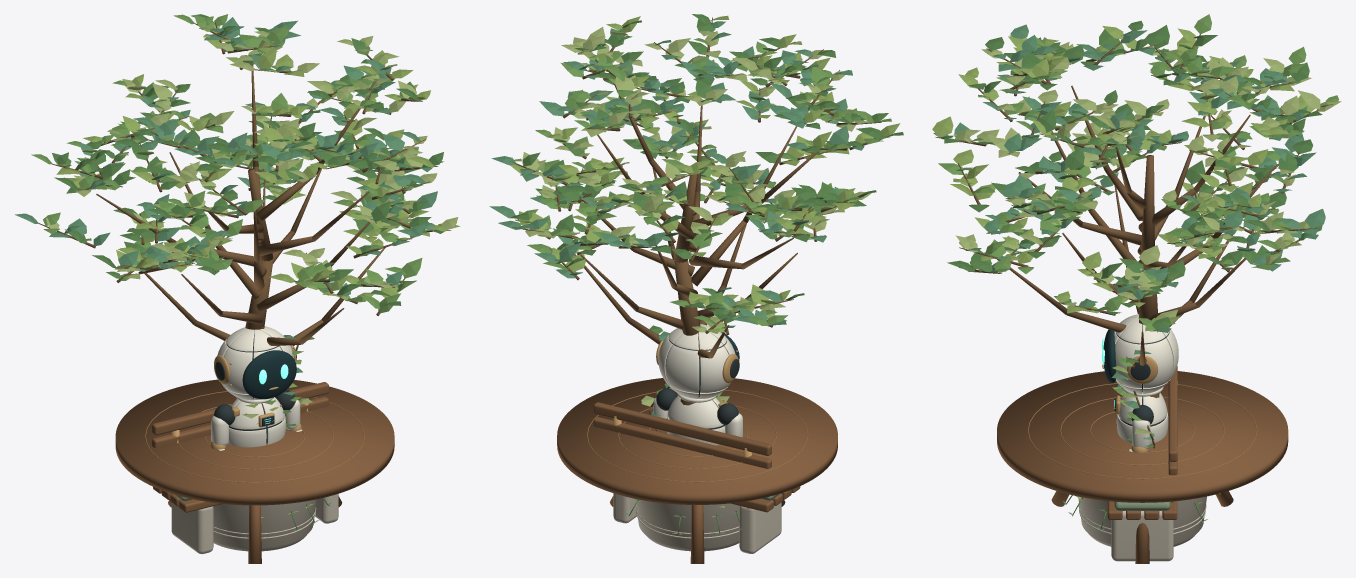
Rendered from hero-kit.glb.
3 renders of one model, left to right at view 1: azimuth 30°, elevation 25°; view 2: azimuth 150°, elevation 25°; view 3: azimuth 270°, elevation 25°, orthographic. The views are drawn at different scales.
Visible parts, largest first — view 1: table_Timber • oiled walnut, canopy_Leaf • 0, canopy_Bark • cinnamon, canopy_Leaf • 3, canopy_Leaf • 2, canopy_Leaf • 4, canopy_Leaf • 1, planter_Stone • warm travertine, bench_Timber • oiled walnut, Head_Ceramic • warm ivory, bench_Stone • warm travertine, robot_Ceramic • warm ivory (+2 smaller); view 2: table_Timber • oiled walnut, canopy_Bark • cinnamon, canopy_Leaf • 3, canopy_Leaf • 0, canopy_Leaf • 2, canopy_Leaf • 4, canopy_Leaf • 1, bench_Timber • oiled walnut, Head_Ceramic • warm ivory, planter_Stone • warm travertine, bench_Stone • warm travertine, robot_Ceramic • warm ivory (+1 smaller); view 3: table_Timber • oiled walnut, canopy_Leaf • 0, canopy_Leaf • 3, canopy_Leaf • 4, canopy_Bark • cinnamon, canopy_Leaf • 2, canopy_Leaf • 1, Head_Ceramic • warm ivory, planter_Stone • warm travertine, bench_Stone • warm travertine, bench_Timber • oiled walnut, robot_Ceramic • warm ivory (+2 smaller).
Part boxes in pixels (left/top/right/bottom): table_Timber • oiled walnut: left=115, top=379, right=394, bottom=563; canopy_Leaf • 0: left=52, top=14, right=444, bottom=305; canopy_Bark • cinnamon: left=38, top=22, right=451, bottom=345; canopy_Leaf • 3: left=15, top=17, right=437, bottom=296; canopy_Leaf • 2: left=56, top=28, right=460, bottom=302; canopy_Leaf • 4: left=46, top=24, right=458, bottom=297; canopy_Leaf • 1: left=31, top=14, right=422, bottom=313; planter_Stone • warm travertine: left=213, top=499, right=316, bottom=551; bench_Timber • oiled walnut: left=151, top=382, right=328, bottom=512; Head_Ceramic • warm ivory: left=217, top=326, right=293, bottom=400; bench_Stone • warm travertine: left=171, top=494, right=338, bottom=554; robot_Ceramic • warm ivory: left=228, top=397, right=285, bottom=447; table_Timber • oiled walnut: left=557, top=378, right=837, bottom=563; canopy_Bark • cinnamon: left=512, top=17, right=891, bottom=405; canopy_Leaf • 3: left=489, top=21, right=864, bottom=328; canopy_Leaf • 0: left=510, top=14, right=903, bottom=325; canopy_Leaf • 2: left=509, top=15, right=900, bottom=333; canopy_Leaf • 4: left=522, top=27, right=871, bottom=332; canopy_Leaf • 1: left=522, top=35, right=891, bottom=325; bench_Timber • oiled walnut: left=593, top=402, right=800, bottom=512; Head_Ceramic • warm ivory: left=658, top=324, right=735, bottom=398; planter_Stone • warm travertine: left=635, top=499, right=739, bottom=551; bench_Stone • warm travertine: left=613, top=493, right=781, bottom=553; robot_Ceramic • warm ivory: left=666, top=393, right=724, bottom=445; table_Timber • oiled walnut: left=997, top=371, right=1288, bottom=563; canopy_Leaf • 0: left=939, top=20, right=1322, bottom=329; canopy_Leaf • 3: left=933, top=24, right=1325, bottom=332; canopy_Leaf • 4: left=953, top=35, right=1341, bottom=319; canopy_Bark • cinnamon: left=935, top=28, right=1317, bottom=398; canopy_Leaf • 2: left=932, top=26, right=1332, bottom=331; canopy_Leaf • 1: left=938, top=14, right=1338, bottom=329; Head_Ceramic • warm ivory: left=1114, top=314, right=1178, bottom=393; planter_Stone • warm travertine: left=1078, top=496, right=1206, bottom=546; bench_Stone • warm travertine: left=1111, top=511, right=1173, bottom=561; bench_Timber • oiled walnut: left=1107, top=366, right=1177, bottom=519; robot_Ceramic • warm ivory: left=1116, top=387, right=1168, bottom=443.
Bounding box in the file's own units: 3.59 × 4.15 × 3.15.
